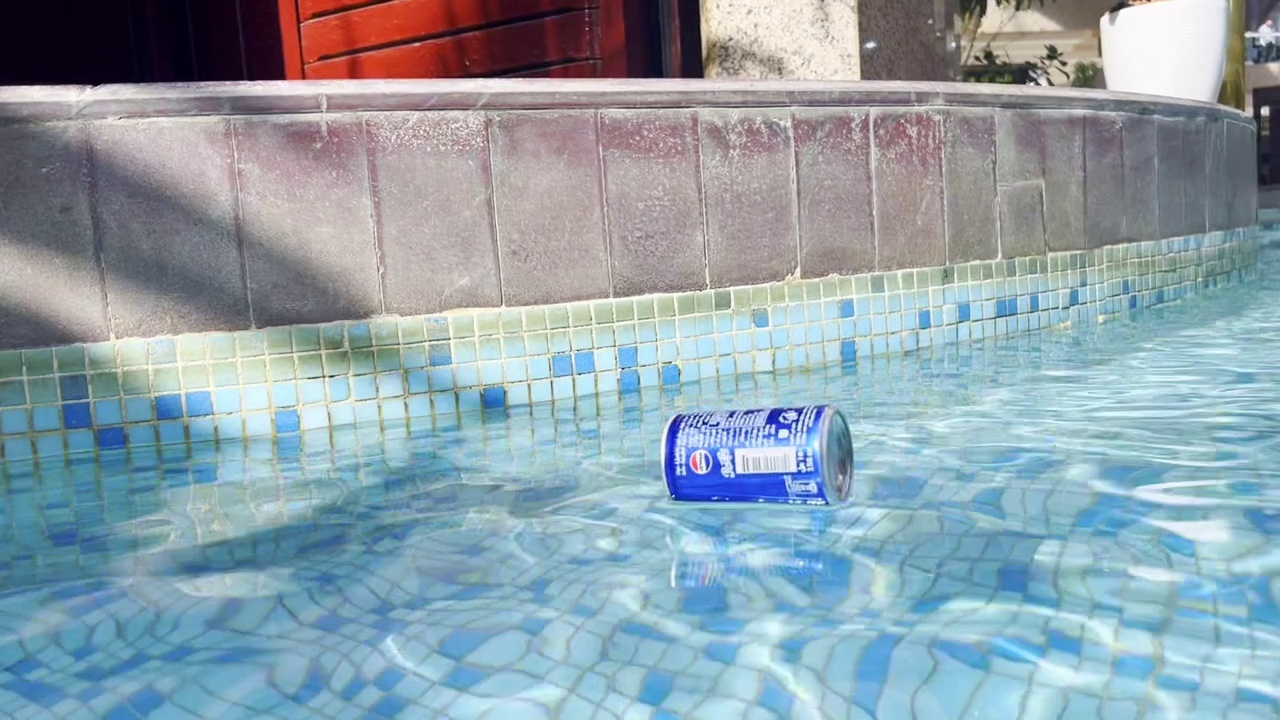debris: (648, 401, 856, 517)
